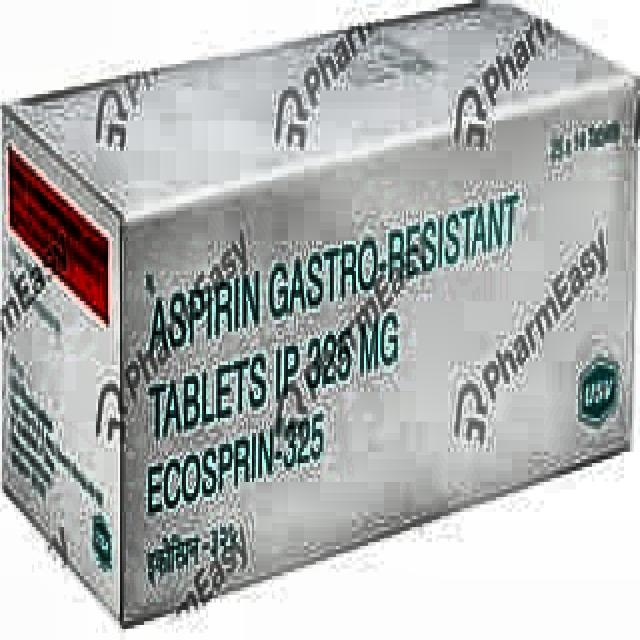Aspirin: (134, 156, 538, 601)
